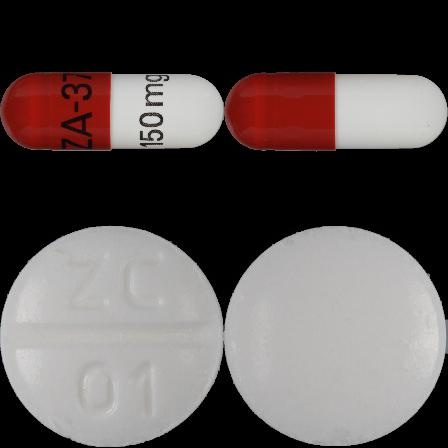68382-036: (0, 0, 224, 224)
